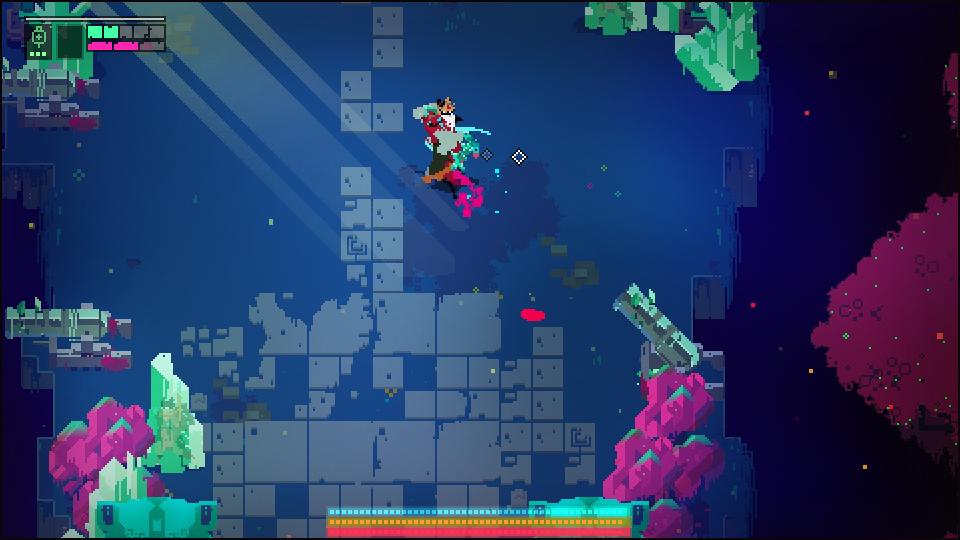hanged_man: (415, 96, 476, 191)
